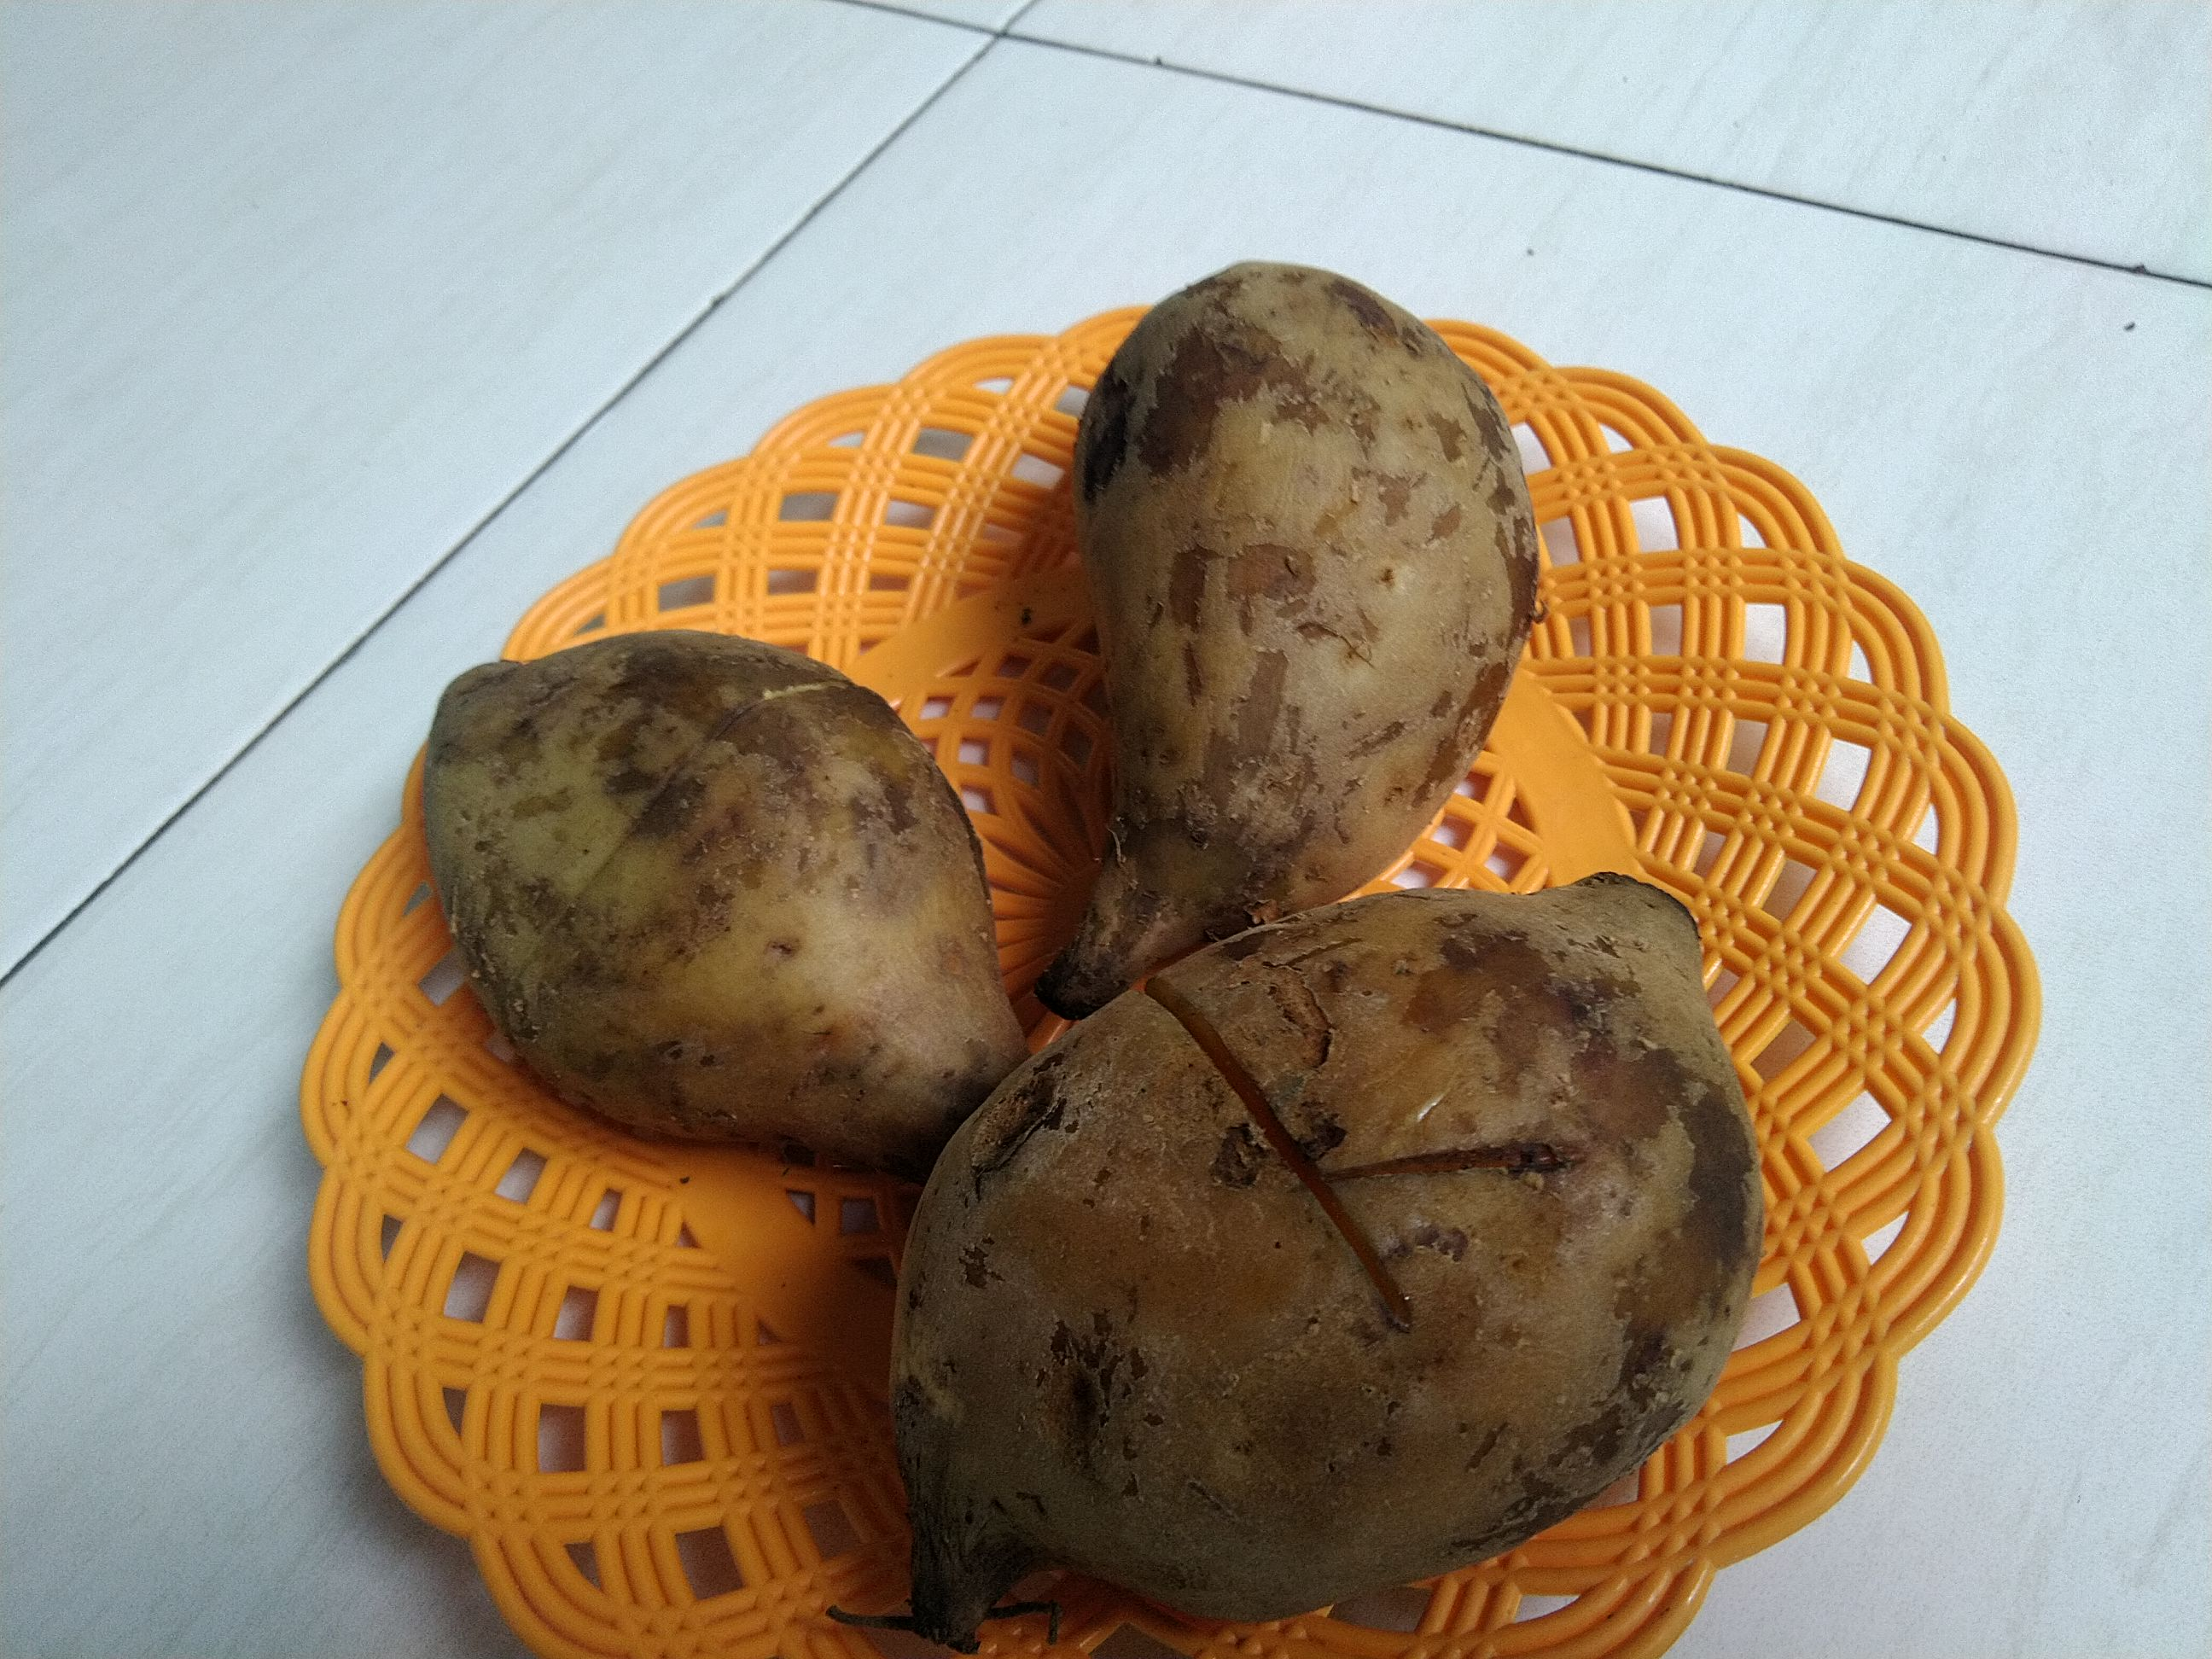ubi kuning: (819, 840, 1771, 1642), (1045, 251, 1557, 1014), (409, 633, 1055, 1201)
